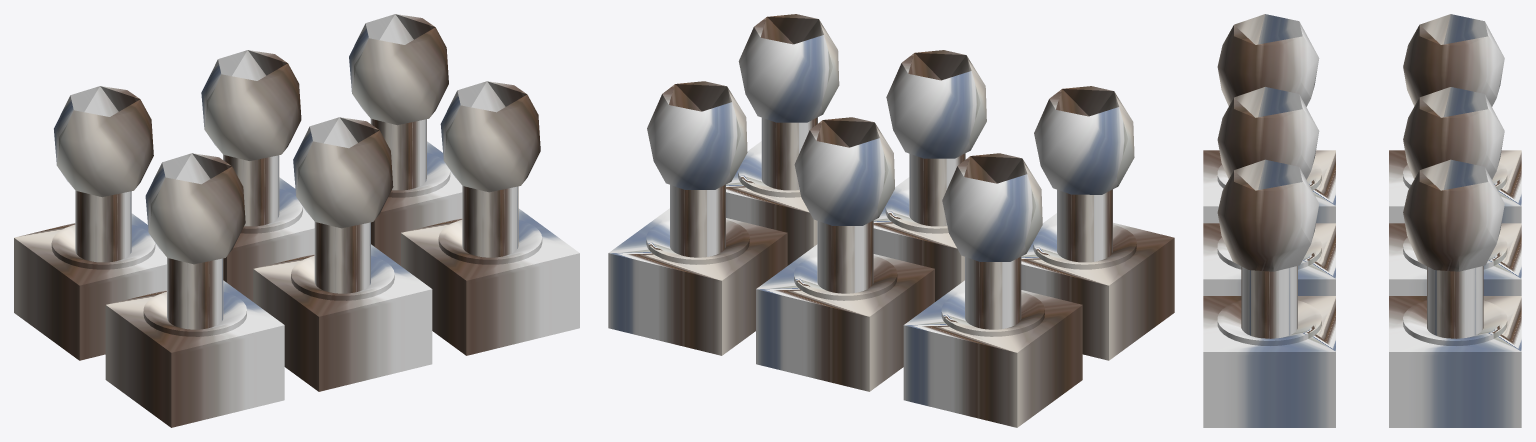
The model's file is yk_katto_lvi_laite1.fbx.
The picture shows the model from 3 angles, left to right: view 1: azimuth 30°, elevation 25°; view 2: azimuth 150°, elevation 25°; view 3: azimuth 270°, elevation 25°; orthographic projection.
Visible parts, largest first — view 1: lvi-laite1.001; view 2: lvi-laite1.001; view 3: lvi-laite1.001.
Boxes of the visible parts, x1,y1,x2,y2 form: lvi-laite1.001: (14,14,579,427); lvi-laite1.001: (608,14,1174,427); lvi-laite1.001: (1203,14,1521,427).
Bounding box in the file's own units: 182 × 94.44 × 121.
